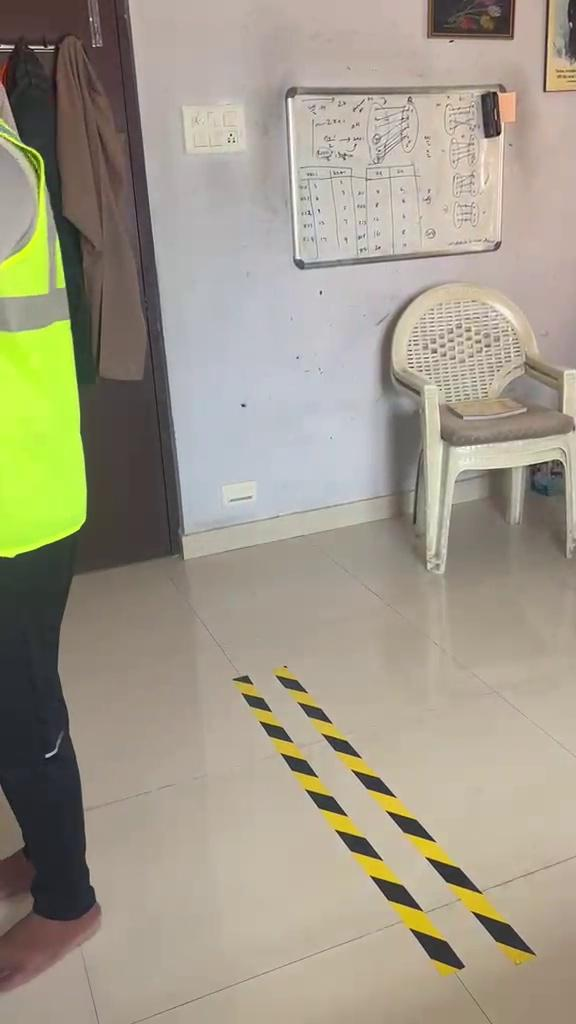BorderLine: (228, 666, 537, 977)
Person: (0, 79, 103, 987)
Vest: (0, 79, 88, 558)
